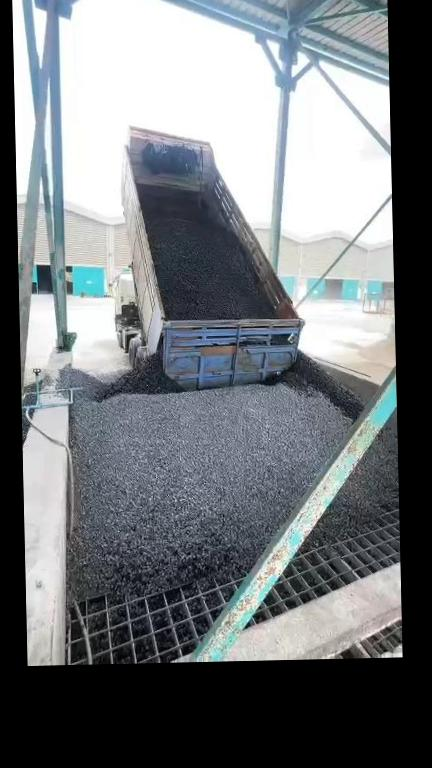gravel: (53, 329, 363, 594), (153, 223, 276, 324), (314, 434, 398, 550)
sand: (330, 338, 395, 381)
